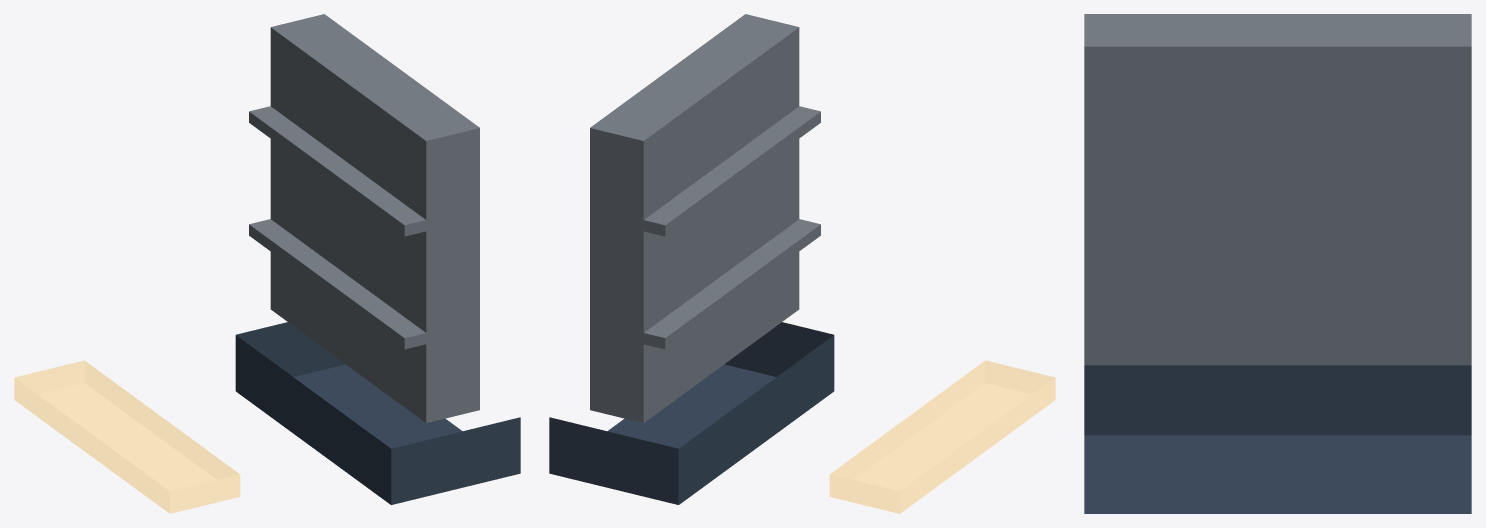
Rendered from AF_Hangar.glb.
The picture shows the model from 3 angles, left to right: view 1: azimuth 30°, elevation 25°; view 2: azimuth 150°, elevation 25°; view 3: azimuth 270°, elevation 25°; orthographic projection. The views are drawn at different scales.
Parts seen in each view (by area): view 1: AF_Hangar__door_leaf, AF_Hangar__door_track, AF_Hangar__apron_bar; view 2: AF_Hangar__door_leaf, AF_Hangar__door_track, AF_Hangar__apron_bar; view 3: AF_Hangar__door_leaf, AF_Hangar__door_track.
Part boxes in pixels (x1,y1,x2,y2): AF_Hangar__door_leaf: (249,14,479,423); AF_Hangar__door_track: (235,322,520,504); AF_Hangar__apron_bar: (14,360,240,513); AF_Hangar__door_leaf: (590,14,820,423); AF_Hangar__door_track: (549,322,834,504); AF_Hangar__apron_bar: (829,360,1055,513); AF_Hangar__door_leaf: (1084,14,1471,365); AF_Hangar__door_track: (1084,365,1471,513).
Size of the model in its own units: 1.3 by 1.26 by 1.
